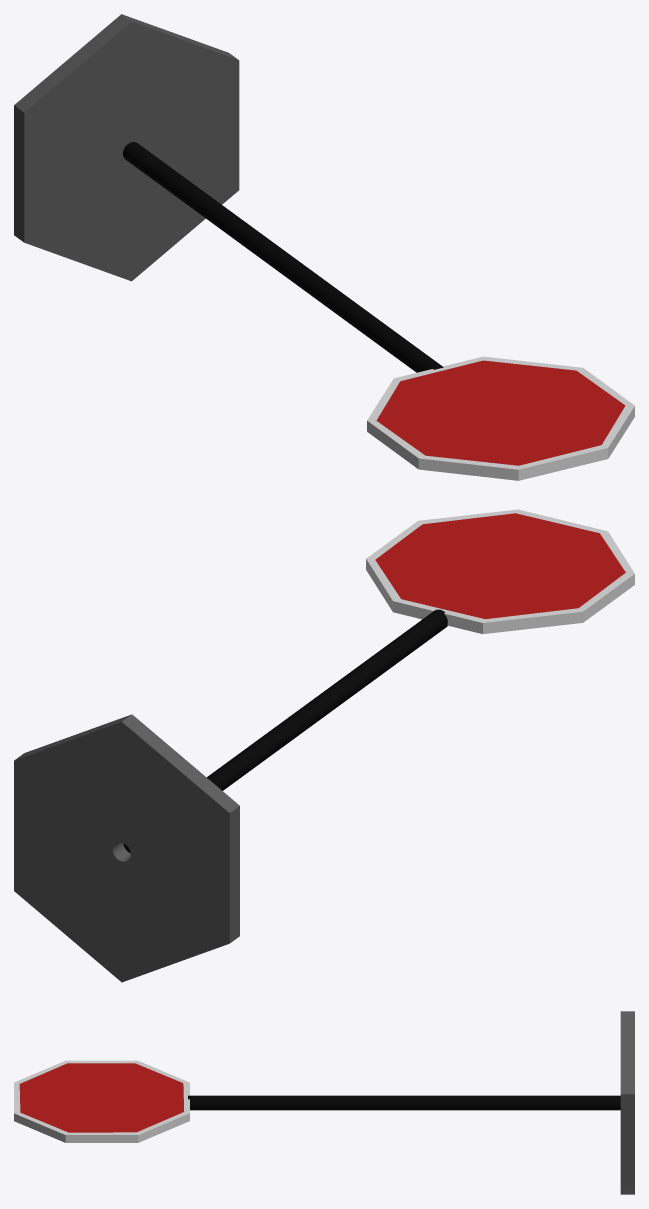
The model's file is sign_igvc.dae.
3 views of the same model, one above another, from view 1: azimuth 30°, elevation 25°; view 2: azimuth 150°, elevation 25°; view 3: azimuth 270°, elevation 25° (orthographic). The views are drawn at different scales.
Visible parts, largest first — view 1: node_09cdee06_bc95_4c8e_abd6_289ed258b479_mesh0, node_09cdee06_bc95_4c8e_abd6_289ed258b479_mesh2, node_09cdee06_bc95_4c8e_abd6_289ed258b479_mesh1, node_09cdee06_bc95_4c8e_abd6_289ed258b479_mesh3; view 2: node_09cdee06_bc95_4c8e_abd6_289ed258b479_mesh0, node_09cdee06_bc95_4c8e_abd6_289ed258b479_mesh2, node_09cdee06_bc95_4c8e_abd6_289ed258b479_mesh1, node_09cdee06_bc95_4c8e_abd6_289ed258b479_mesh3; view 3: node_09cdee06_bc95_4c8e_abd6_289ed258b479_mesh2, node_09cdee06_bc95_4c8e_abd6_289ed258b479_mesh1, node_09cdee06_bc95_4c8e_abd6_289ed258b479_mesh3, node_09cdee06_bc95_4c8e_abd6_289ed258b479_mesh0.
Part boxes in pixels (x1=…): node_09cdee06_bc95_4c8e_abd6_289ed258b479_mesh0: x1=14, y1=14, x2=239, y2=281; node_09cdee06_bc95_4c8e_abd6_289ed258b479_mesh2: x1=376, y1=360, x2=625, y2=465; node_09cdee06_bc95_4c8e_abd6_289ed258b479_mesh1: x1=123, y1=142, x2=443, y2=372; node_09cdee06_bc95_4c8e_abd6_289ed258b479_mesh3: x1=367, y1=356, x2=634, y2=480; node_09cdee06_bc95_4c8e_abd6_289ed258b479_mesh0: x1=14, y1=714, x2=239, y2=982; node_09cdee06_bc95_4c8e_abd6_289ed258b479_mesh2: x1=375, y1=513, x2=625, y2=619; node_09cdee06_bc95_4c8e_abd6_289ed258b479_mesh1: x1=123, y1=609, x2=447, y2=853; node_09cdee06_bc95_4c8e_abd6_289ed258b479_mesh3: x1=366, y1=509, x2=634, y2=634; node_09cdee06_bc95_4c8e_abd6_289ed258b479_mesh2: x1=19, y1=1063, x2=183, y2=1132; node_09cdee06_bc95_4c8e_abd6_289ed258b479_mesh1: x1=188, y1=1095, x2=620, y2=1110; node_09cdee06_bc95_4c8e_abd6_289ed258b479_mesh3: x1=14, y1=1060, x2=189, y2=1142; node_09cdee06_bc95_4c8e_abd6_289ed258b479_mesh0: x1=620, y1=1011, x2=634, y2=1194.
Bounding box in the file's own units: 611 × 700 × 2153.
